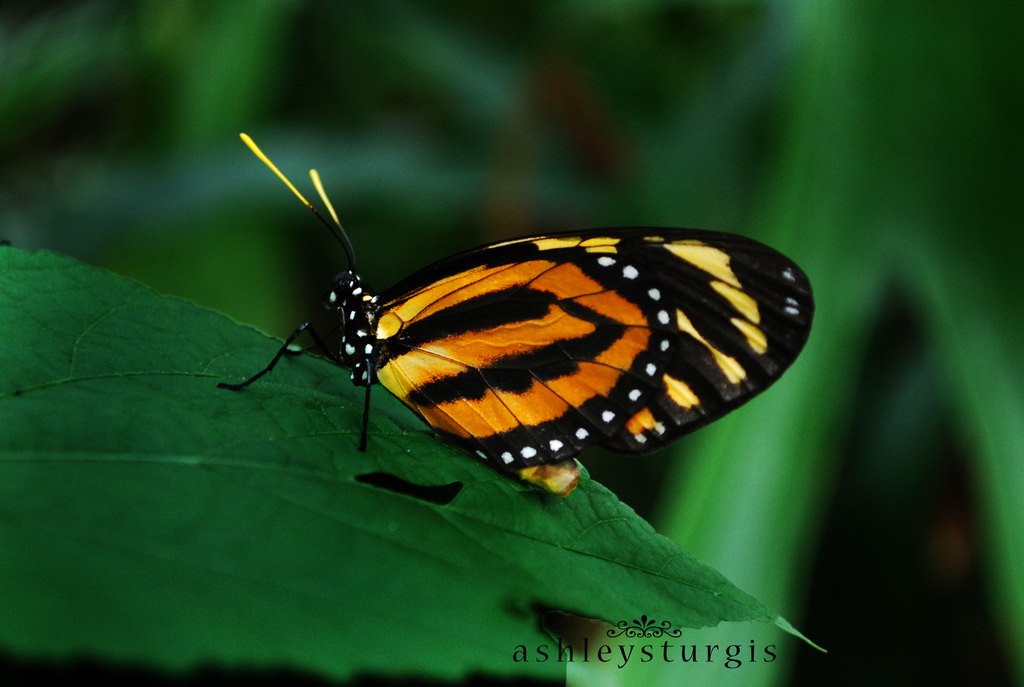Butterfly: (185, 95, 915, 551)
